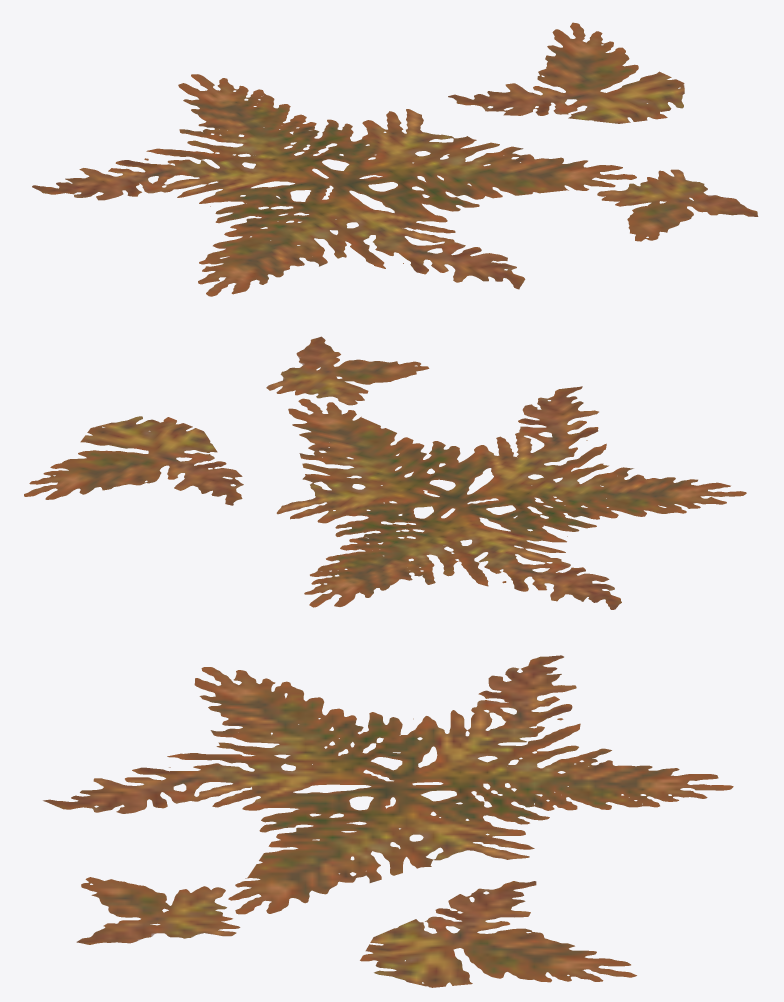
The model's file is oVgtAIO1F.FBX.
3 renders of one model, top to bottom at view 1: azimuth 30°, elevation 25°; view 2: azimuth 150°, elevation 25°; view 3: azimuth 270°, elevation 25°, orthographic. The views are drawn at different scales.
Parts seen in each view (by area): view 1: oVgtAIO1F; view 2: oVgtAIO1F; view 3: oVgtAIO1F.
Part boxes in pixels (<box>): oVgtAIO1F: <box>32,22,758,296</box>; oVgtAIO1F: <box>24,336,746,609</box>; oVgtAIO1F: <box>43,655,733,987</box>.
Bounding box in the file's own units: 11.73 × 10.96 × 6.44e-06.
